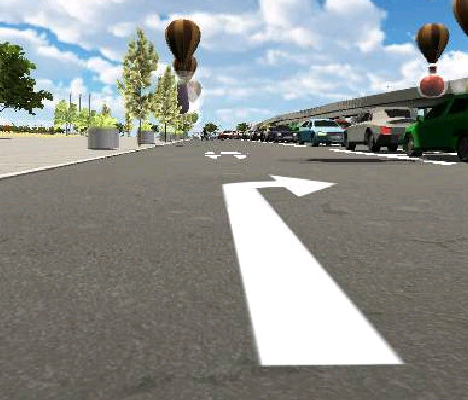ground_right: (212, 174, 340, 196)
